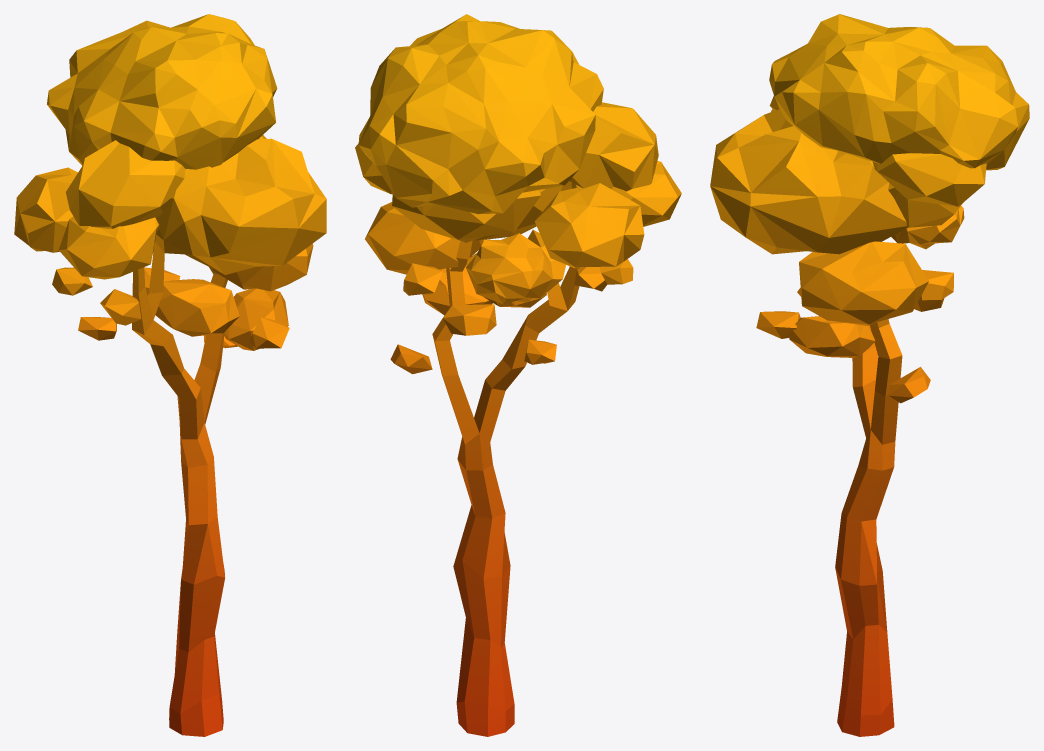
File: SM_Env_Hologram_Tree_03.fbx
3 renders of one model, left to right at view 1: azimuth 30°, elevation 25°; view 2: azimuth 150°, elevation 25°; view 3: azimuth 270°, elevation 25°, orthographic.
Parts seen in each view (by area): view 1: SM_Env_Hologram_Tree_03; view 2: SM_Env_Hologram_Tree_03; view 3: SM_Env_Hologram_Tree_03.
Boxes of the visible parts, box(x1,y1,x2,y2) form: SM_Env_Hologram_Tree_03: box(14, 14, 326, 736); SM_Env_Hologram_Tree_03: box(355, 14, 681, 736); SM_Env_Hologram_Tree_03: box(710, 14, 1029, 736).
Size of the model in its own units: 240 by 594 by 246.
